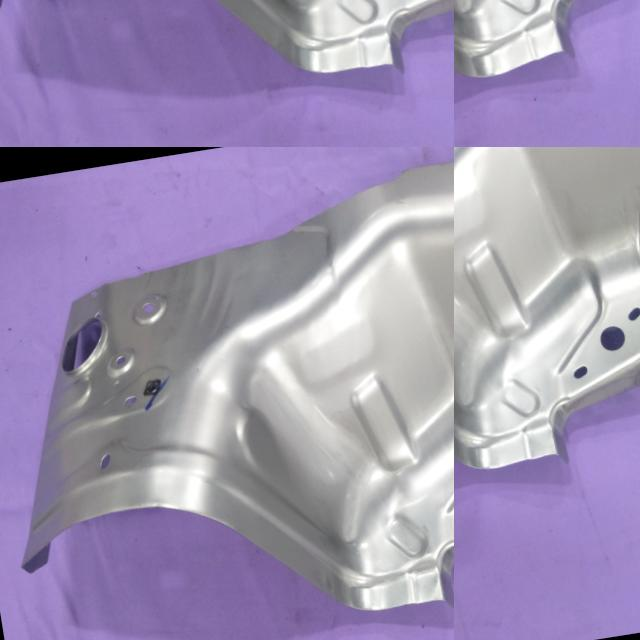Healthy: (0, 147, 454, 640), (454, 147, 640, 532), (0, 0, 454, 143)
